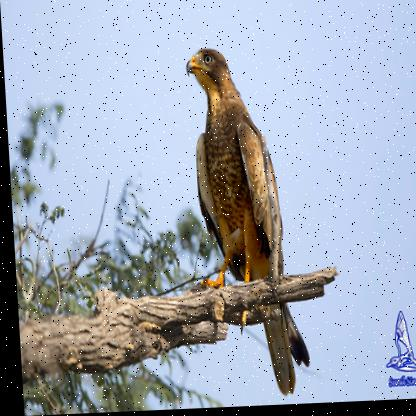Burung: (181, 44, 318, 400)
